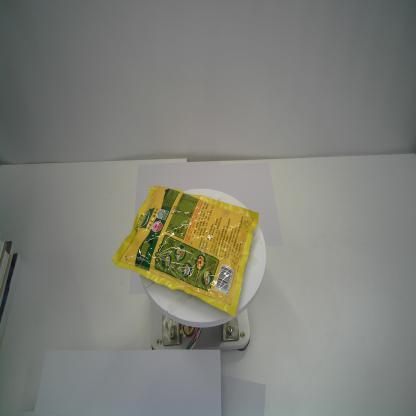Seasoner: (111, 186, 261, 319)
